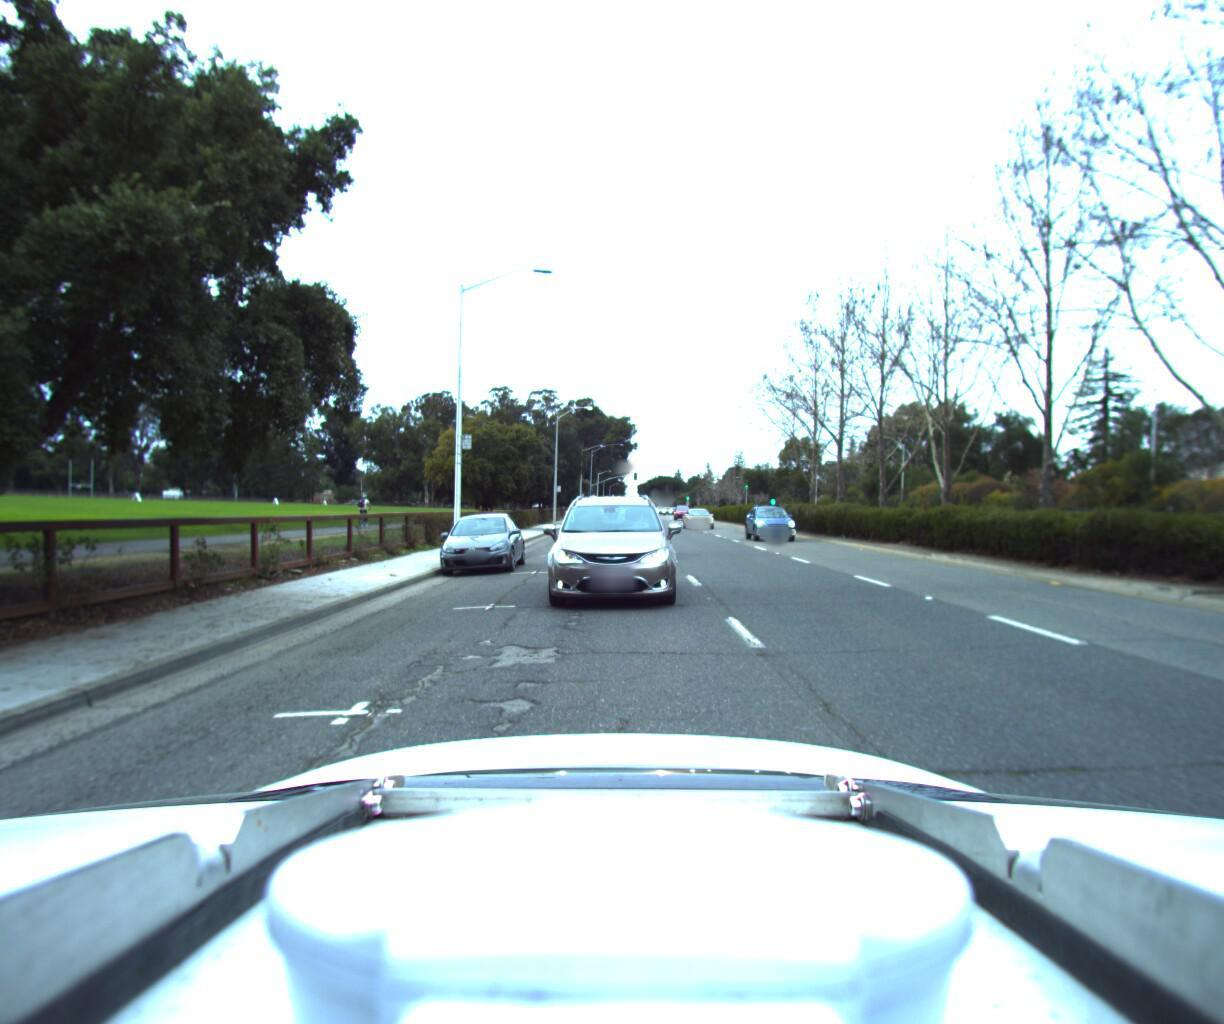bicycle: (349, 486, 372, 523)
car: (540, 483, 677, 608), (429, 503, 529, 573), (749, 497, 810, 537), (683, 501, 717, 524), (672, 499, 692, 514)
